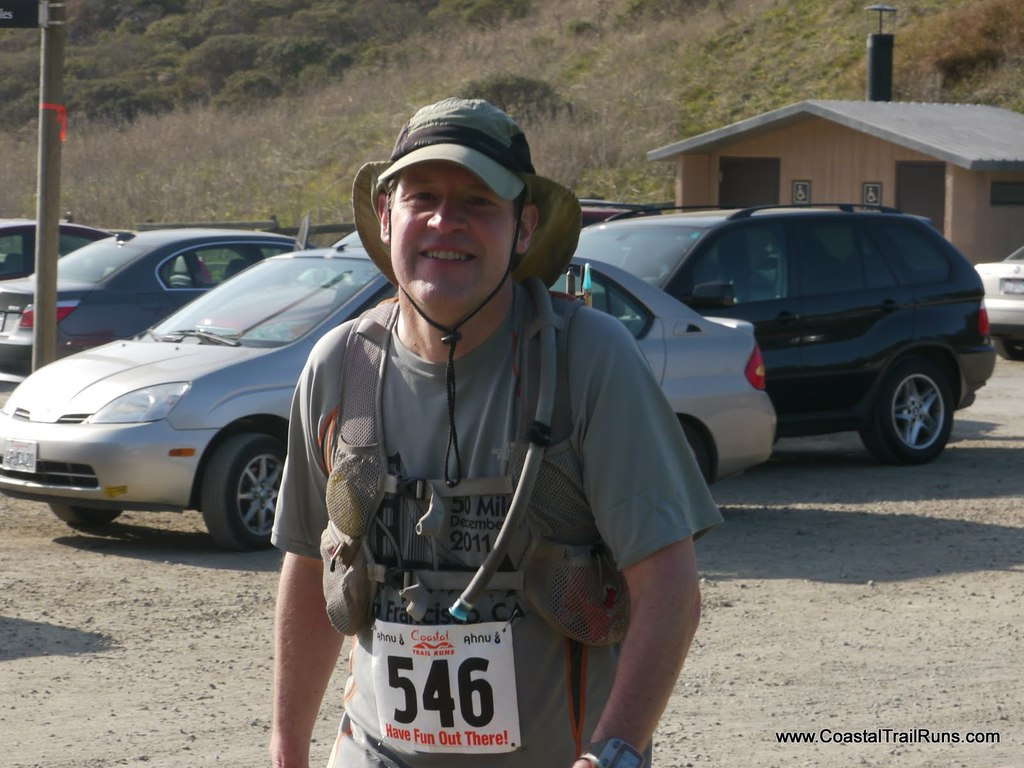Car: (0, 192, 1023, 550)
